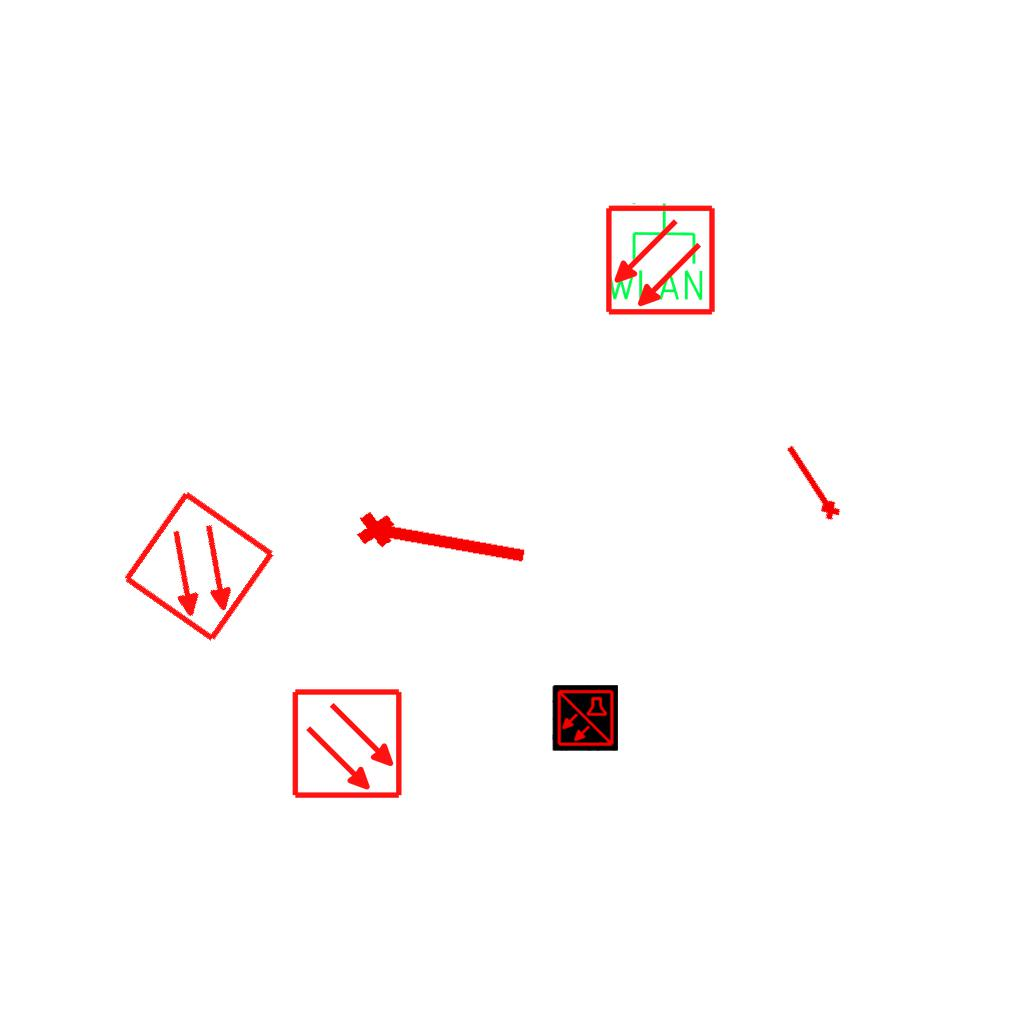ASR_Ansaugoeffnung: (352, 501, 534, 577), (777, 439, 845, 526)
OKW_Multisensormelder_(Kombination_optischer_Rauch-Kahlenmonoxid_Waerme-Melder): (552, 685, 618, 751)
RMO_Rauchmelder_optischer: (120, 487, 279, 646), (291, 687, 404, 800), (604, 204, 717, 317)
WLAN: (602, 200, 707, 304)
